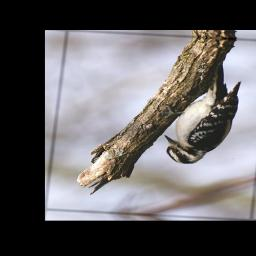Woodpecker: (157, 59, 251, 174)
